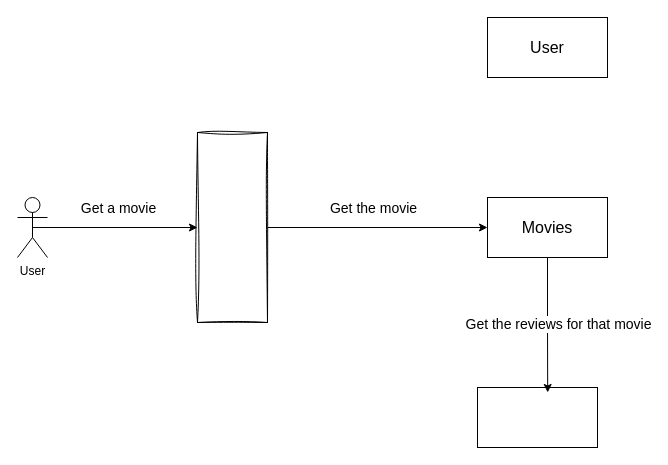
This 668x465 diagram has some shape labels left out. The shapes that lost their labels are listed below. From the top down, each one's box as (x1, y1, x2, y2) in pixels, then its label:
(196, 132, 268, 322): API Gateway
(476, 386, 598, 448): Reviews
